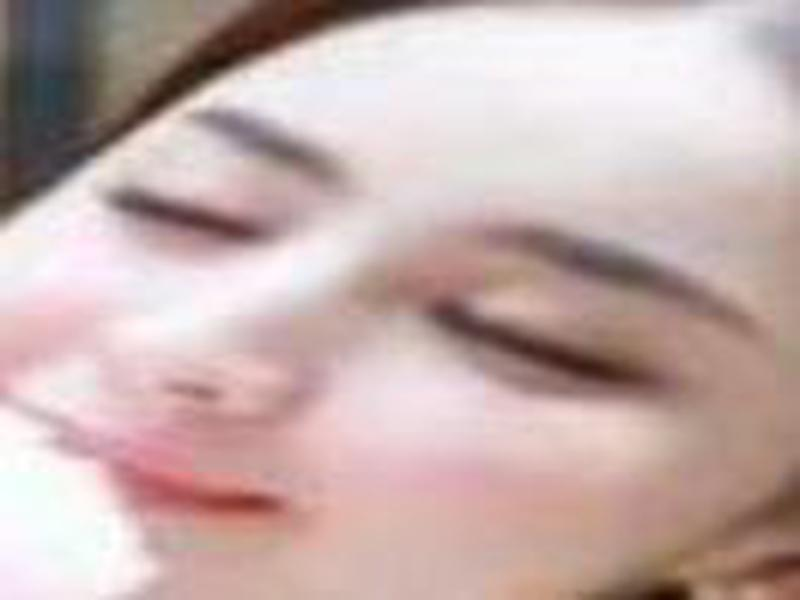without_mask: (8, 27, 791, 600)
